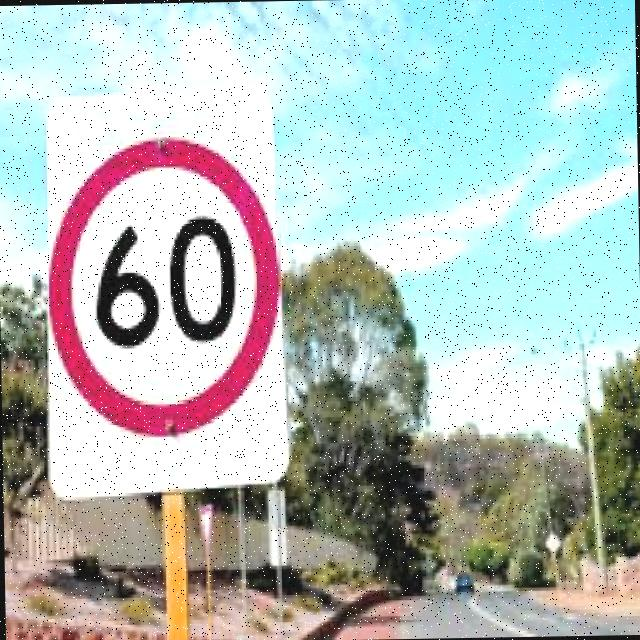Ograniczenie predkosci do 60: (51, 136, 282, 438)
